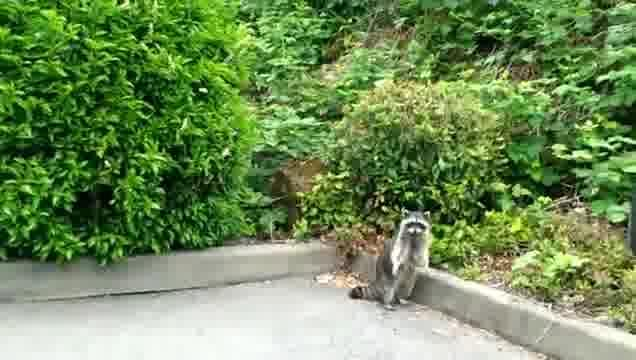raccoon: (350, 202, 434, 312)
